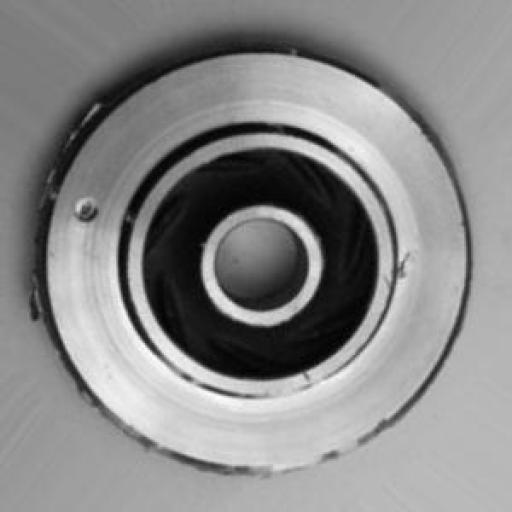defect: (22, 38, 496, 491)
